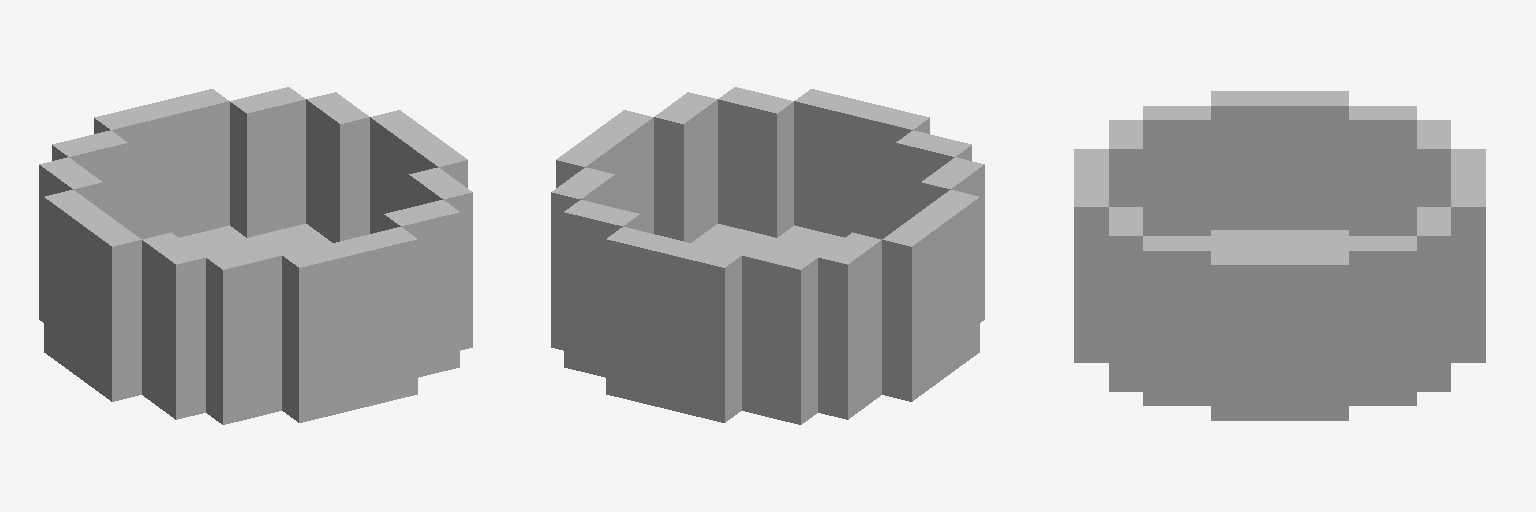
Rendered from hardcook_cake_pan.obj.
3 views of the same model, side by side, from view 1: azimuth 30°, elevation 25°; view 2: azimuth 150°, elevation 25°; view 3: azimuth 270°, elevation 25° (orthographic).
Parts seen in each view (by area): view 1: node_0_0_0; view 2: node_0_0_0; view 3: node_0_0_0.
Boxes of the visible parts, x1,y1,x2,y2 form: node_0_0_0: [39, 87, 472, 424]; node_0_0_0: [551, 87, 984, 424]; node_0_0_0: [1074, 91, 1485, 420].
Bounding box in the file's own units: 0.75 × 0.3125 × 0.75.